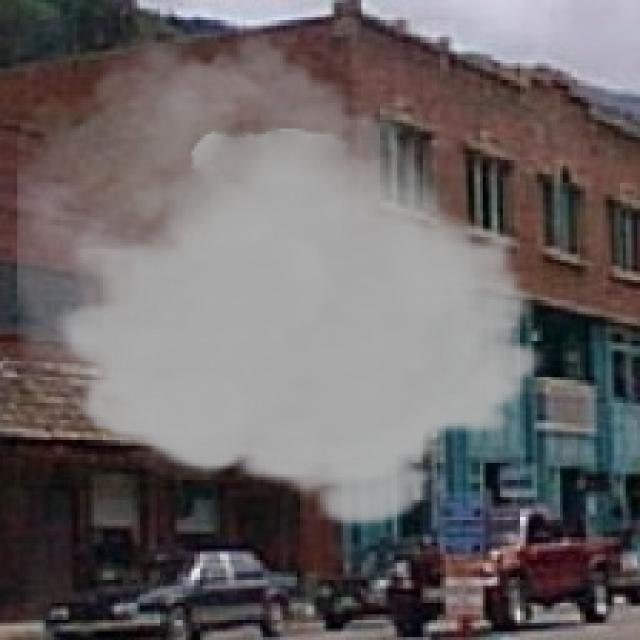Smoke: (17, 17, 546, 532)
